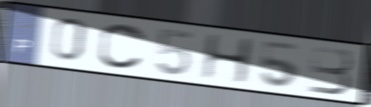0: (49, 16, 90, 64)
5: (257, 38, 299, 91), (154, 27, 195, 77)
B: (306, 44, 355, 96)
C: (96, 22, 148, 71)
H: (198, 33, 255, 86)
